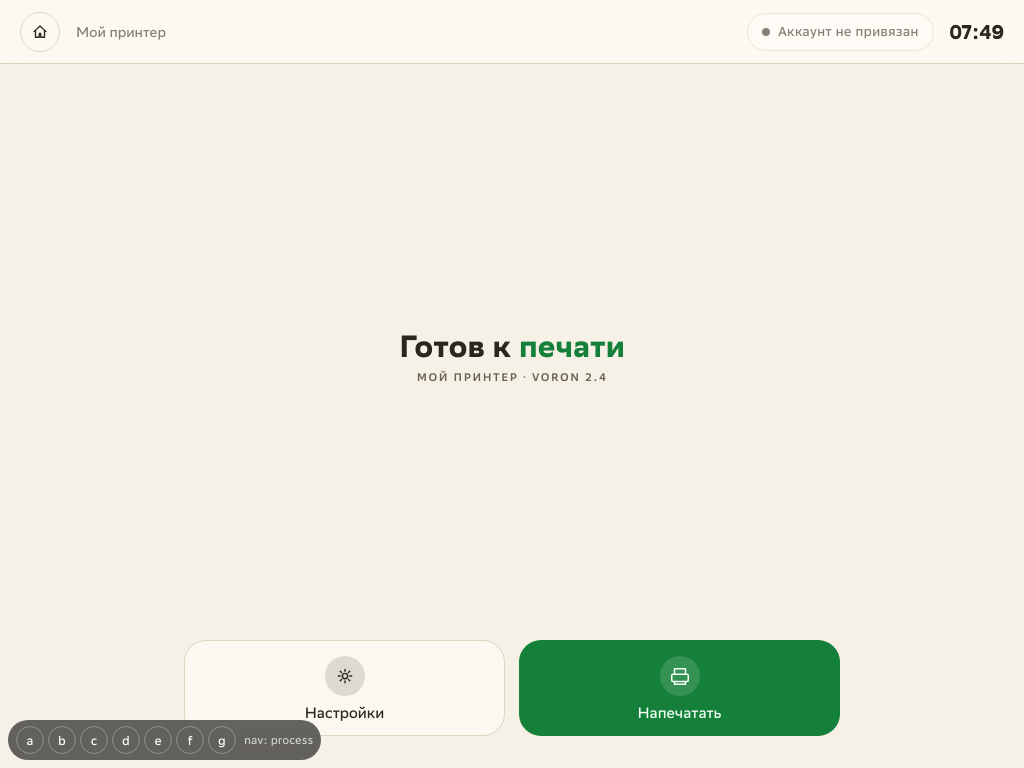
Test: PrinterFaceScreen › сцена (d) — алерт использует ровно словарь причин портала (reasons.ts)
Click the button "d" at (126, 740), box [112, 726, 140, 754]
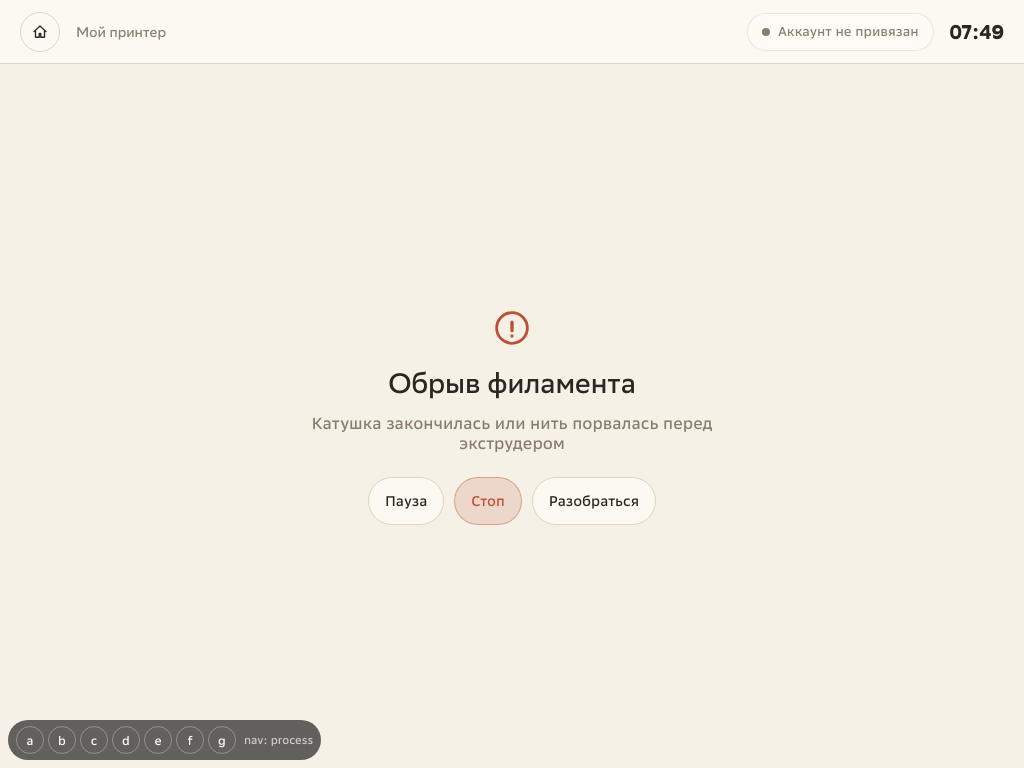
Check: the text "Обрыв филамента" is shown, box [388, 366, 636, 398]
Check: the text "Катушка закончилась или нить порвалась перед экструдером" is shown, box [288, 412, 736, 452]
Check: the text "Пауза" is shown, box [385, 492, 427, 510]
